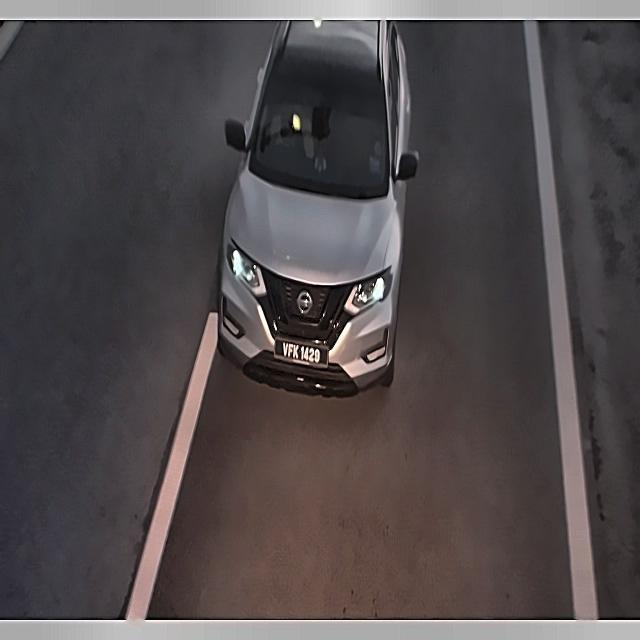car: (270, 332, 330, 372)
